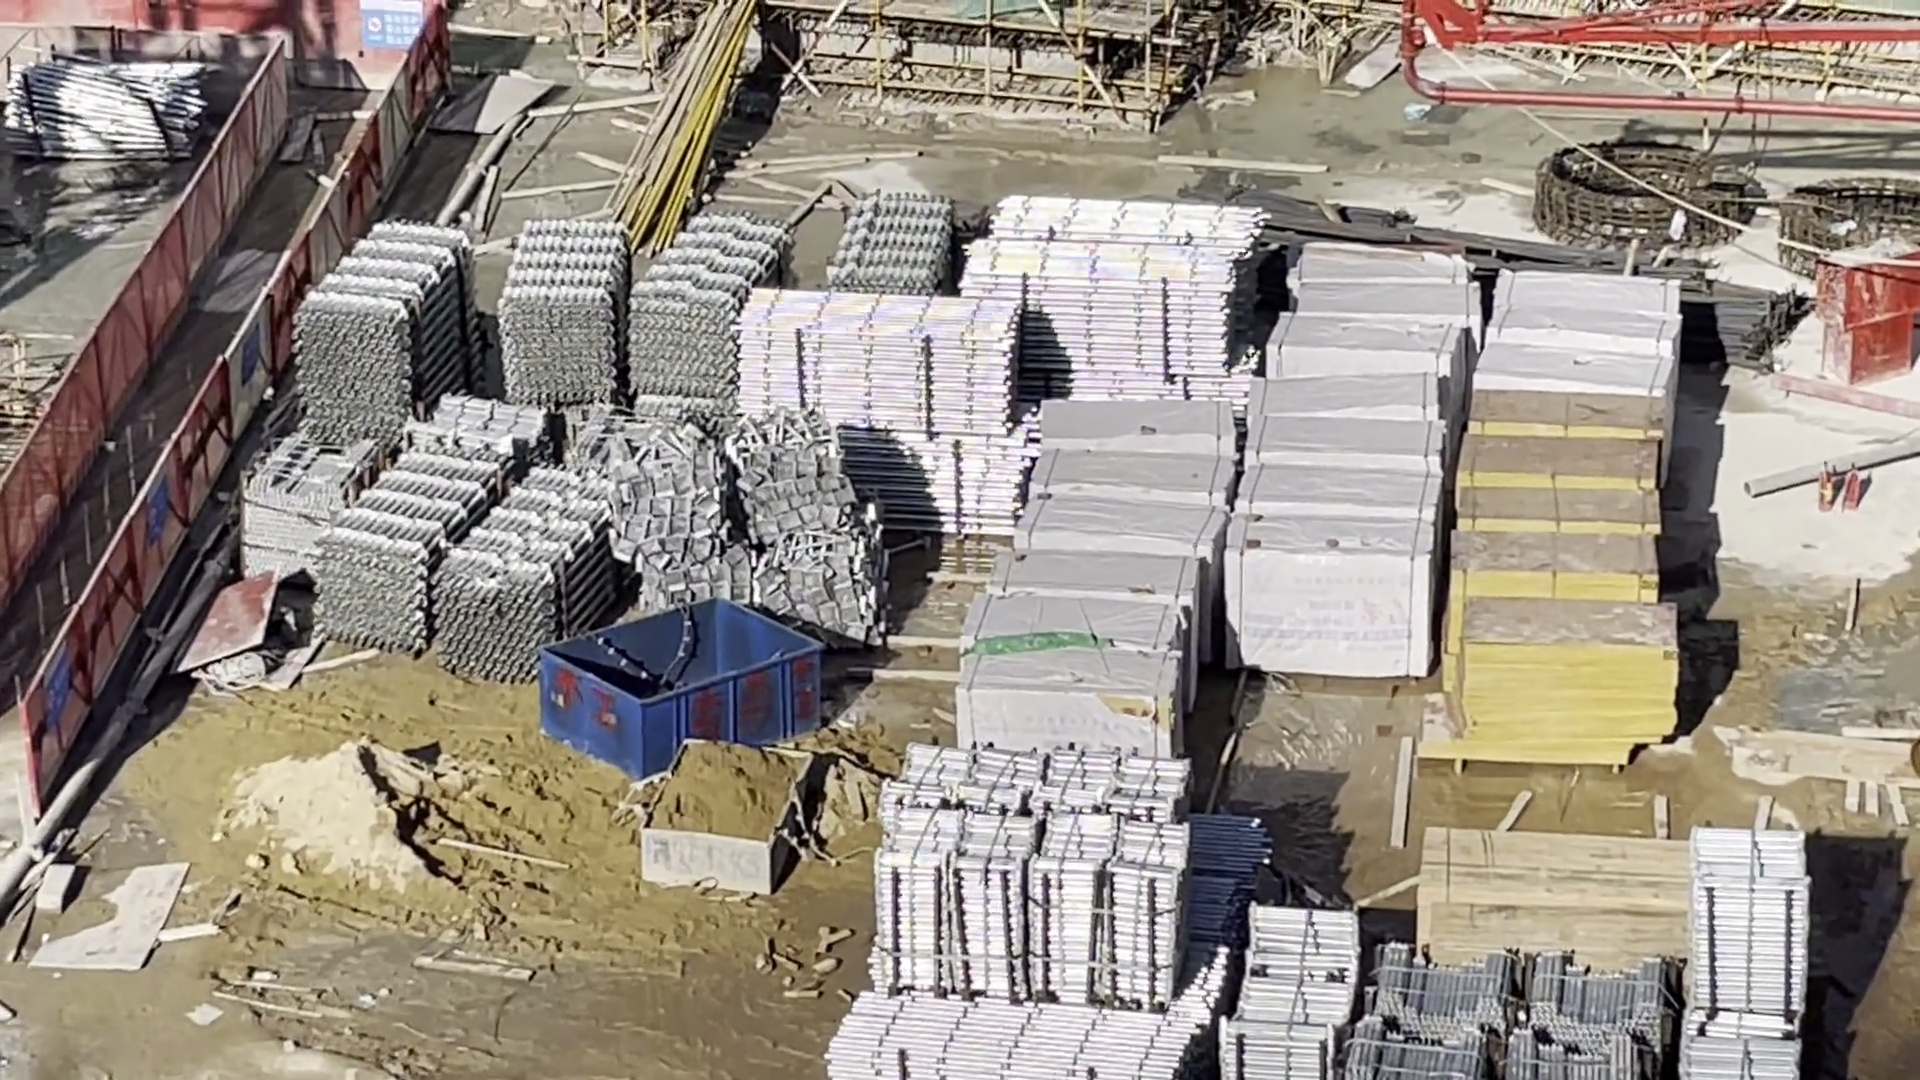board: (1437, 386, 1659, 773), (1416, 837, 1683, 960)
fence: (5, 50, 436, 712), (3, 1, 356, 76)
hopper: (539, 597, 824, 774), (640, 735, 812, 887)
rebar: (1266, 208, 1789, 357)
scaffold: (886, 738, 1197, 1004), (738, 291, 1023, 537), (324, 465, 616, 673), (505, 219, 793, 425), (975, 200, 1261, 400), (1352, 949, 1643, 1080), (301, 225, 473, 440), (825, 992, 1213, 1077), (1677, 831, 1803, 1080), (1216, 915, 1362, 1080), (836, 200, 949, 293)
slogan: (359, 3, 427, 53), (40, 645, 71, 723), (142, 473, 169, 545)
